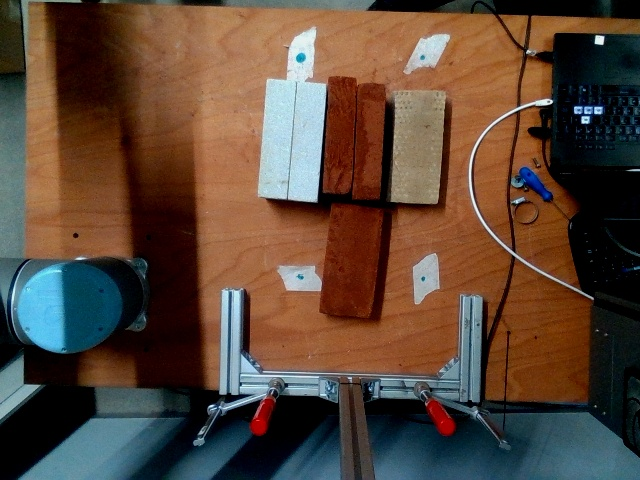brick: (322, 200, 383, 316), (391, 88, 446, 202)
brick-side: (257, 79, 298, 199), (287, 80, 327, 200), (353, 83, 386, 200), (323, 76, 356, 193)
